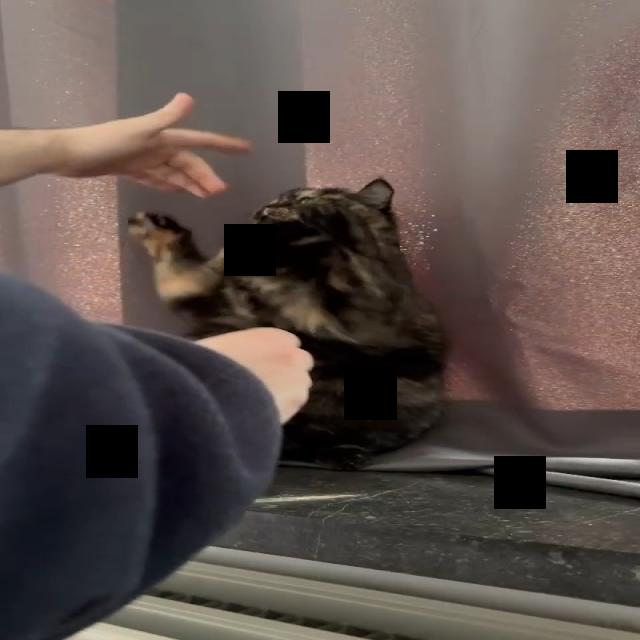authorized: (124, 177, 451, 471)
